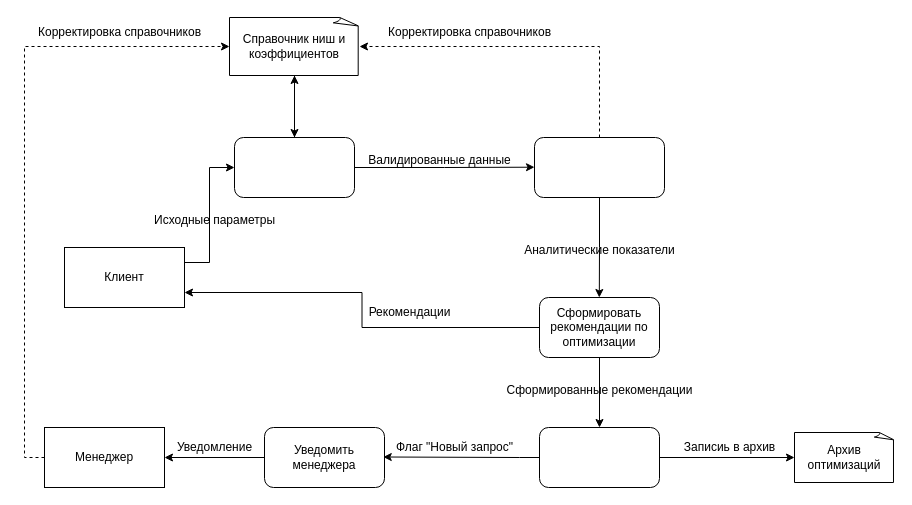
The diagram is 912 pixels wide and 505 high, and some of its shapes have lost their labels. The box of each missing label's shape, as (x1, y1, x2, y2) in pixels:
Принять и проверить исходные данные: (234, 136, 354, 198)
Проанализировать текущие показатели: (534, 136, 664, 198)
Сохранить результаты анализа: (538, 426, 660, 488)
